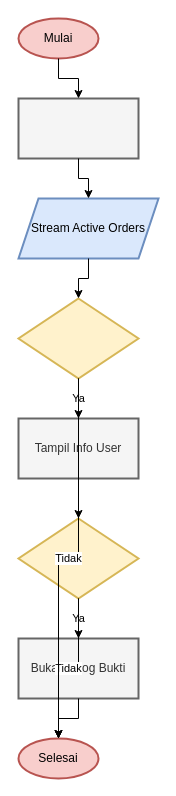
Some shapes in this 176 by 796 pixel diagram are drawn without their labels. Here are the shapes that lost their labels. From the top down, the box of each, then its label:
(17, 97, 139, 159): Buka Dashboard
(17, 297, 139, 379): Cek Detail?
(17, 517, 139, 599): Cek Bukti Bayar?
